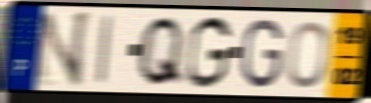G: (184, 14, 234, 91), (239, 17, 285, 91)
I: (94, 12, 115, 87)
N: (31, 9, 93, 88)
O: (285, 19, 331, 91)
Q: (135, 14, 187, 89)
